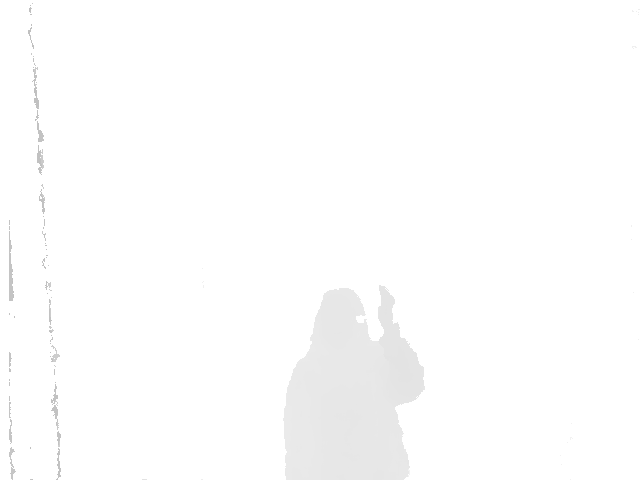head: (308, 288, 371, 344)
person: (277, 282, 432, 480)
